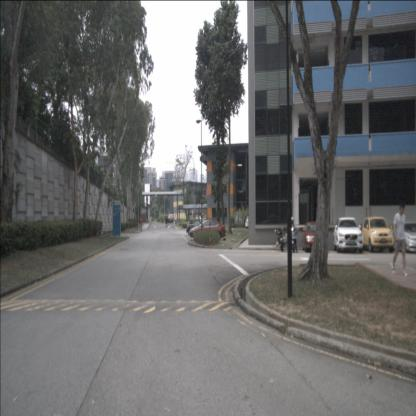human-pedestrian-adult: (391, 201, 408, 277), (139, 215, 143, 232), (174, 214, 177, 226), (165, 215, 168, 227), (166, 216, 169, 226)
vehicle-car: (362, 216, 394, 253), (333, 216, 364, 253), (391, 220, 416, 254), (189, 220, 226, 240), (302, 220, 323, 253), (186, 218, 206, 235), (261, 214, 282, 226), (245, 215, 253, 229), (167, 214, 174, 223)
vehicle-motorcycle: (288, 216, 299, 254), (274, 226, 285, 252)
